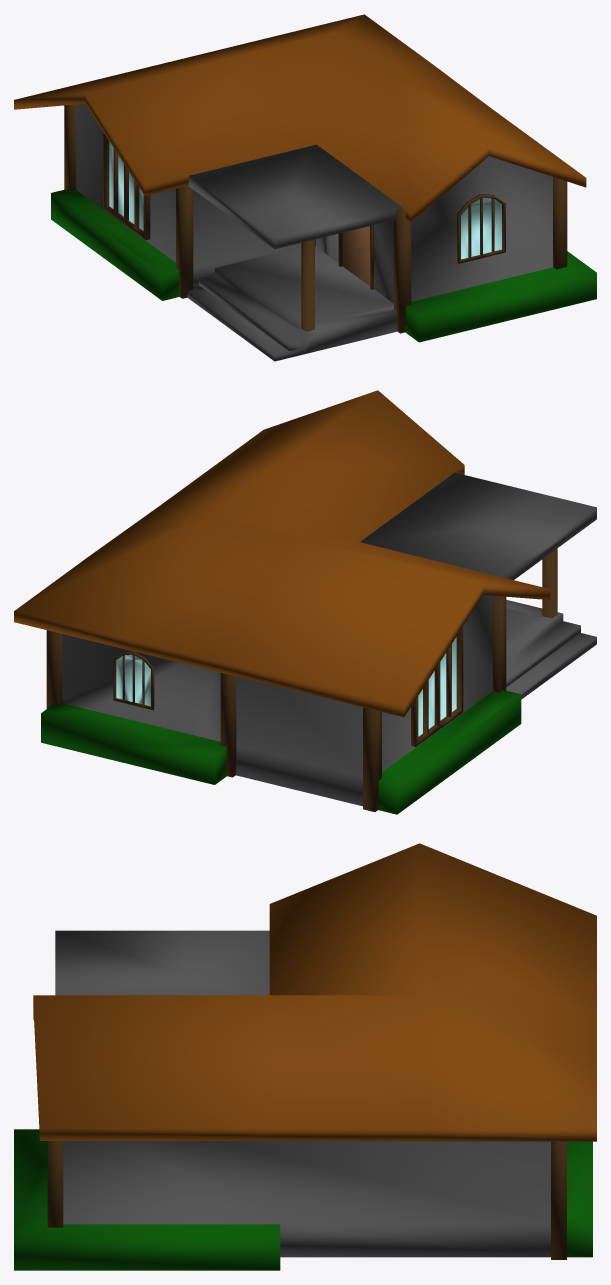
File: Vivienda.glb
The picture shows the model from 3 angles, top to bottom: view 1: azimuth 30°, elevation 25°; view 2: azimuth 150°, elevation 25°; view 3: azimuth 270°, elevation 25°; orthographic projection. The views are drawn at different scales.
Visible parts, largest first — view 1: Cube.007; view 2: Cube.007; view 3: Cube.007.
Part boxes in pixels (x1,y1,x2,y2): Cube.007: [14, 14, 596, 361]; Cube.007: [14, 390, 596, 814]; Cube.007: [14, 843, 596, 1270].
Bounding box in the file's own units: 9.96 × 4.66 × 11.49.
